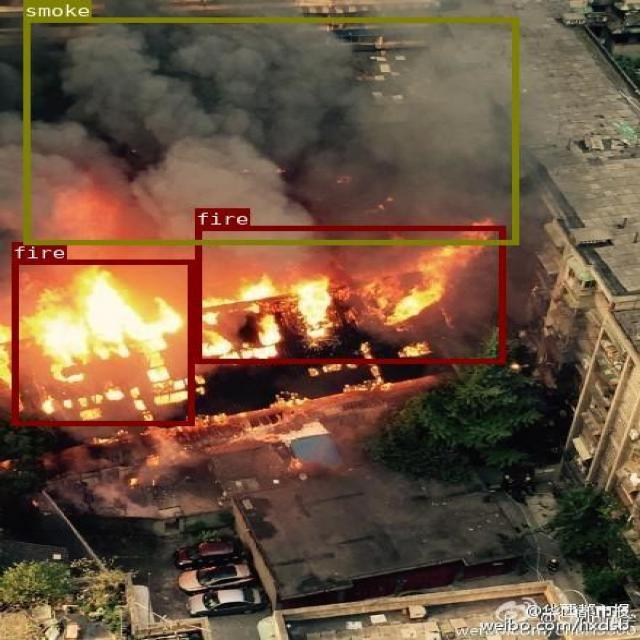fire: (194, 226, 504, 363), (12, 259, 193, 425)
smoke: (23, 17, 517, 244)
